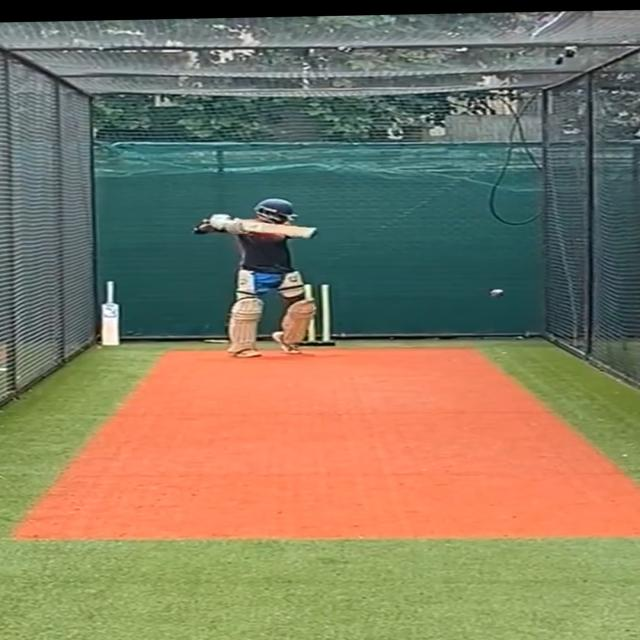ball: (486, 284, 510, 301)
stump: (286, 282, 338, 350)
